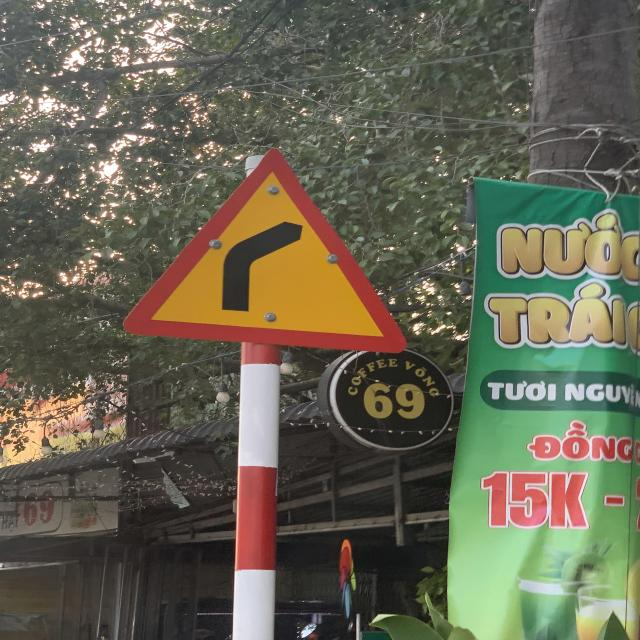Duong_Nguoi_Di_Bo_Cat_Ngang: (122, 150, 408, 348)
